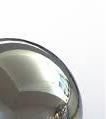ironball: (0, 30, 85, 118)
